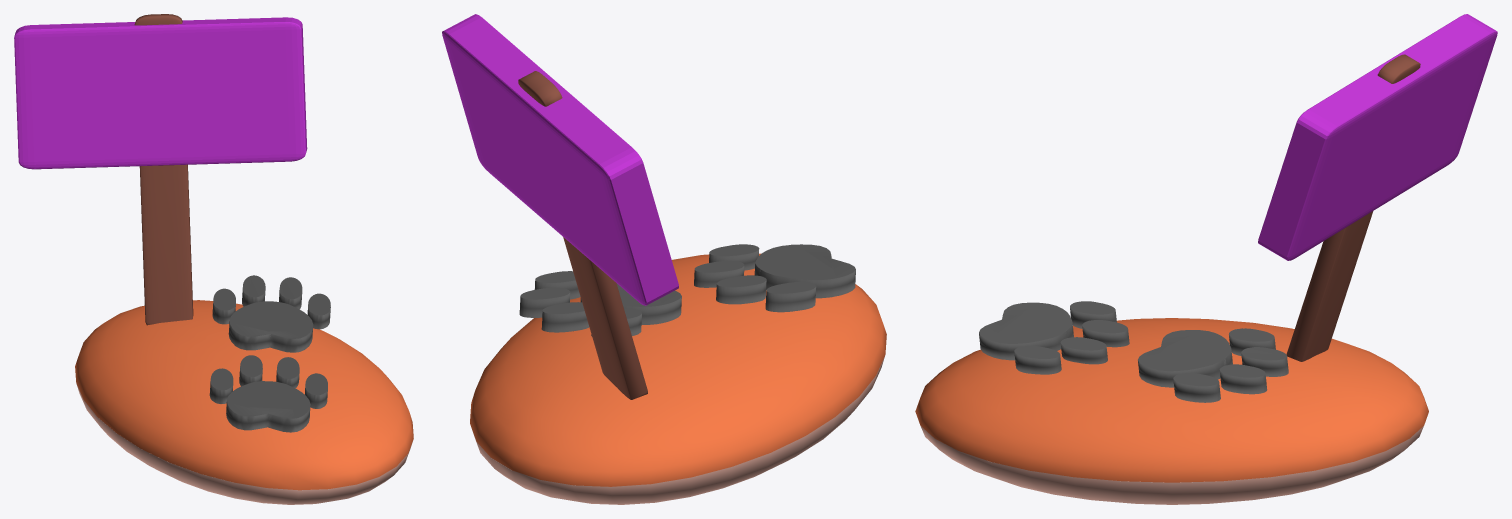
The model's file is WEB3_MENU(1MESH)_R.gltf.
3 renders of one model, left to right at view 1: azimuth 30°, elevation 25°; view 2: azimuth 150°, elevation 25°; view 3: azimuth 270°, elevation 25°, orthographic. The views are drawn at different scales.
Visible parts, largest first — view 1: Cube.009; view 2: Cube.009; view 3: Cube.009.
Boxes of the visible parts, x1,y1,x2,y2 form: Cube.009: (14,14,413,504); Cube.009: (442,14,886,504); Cube.009: (915,14,1497,504).
Bounding box in the file's own units: 0.9752 × 1.34 × 1.68.
